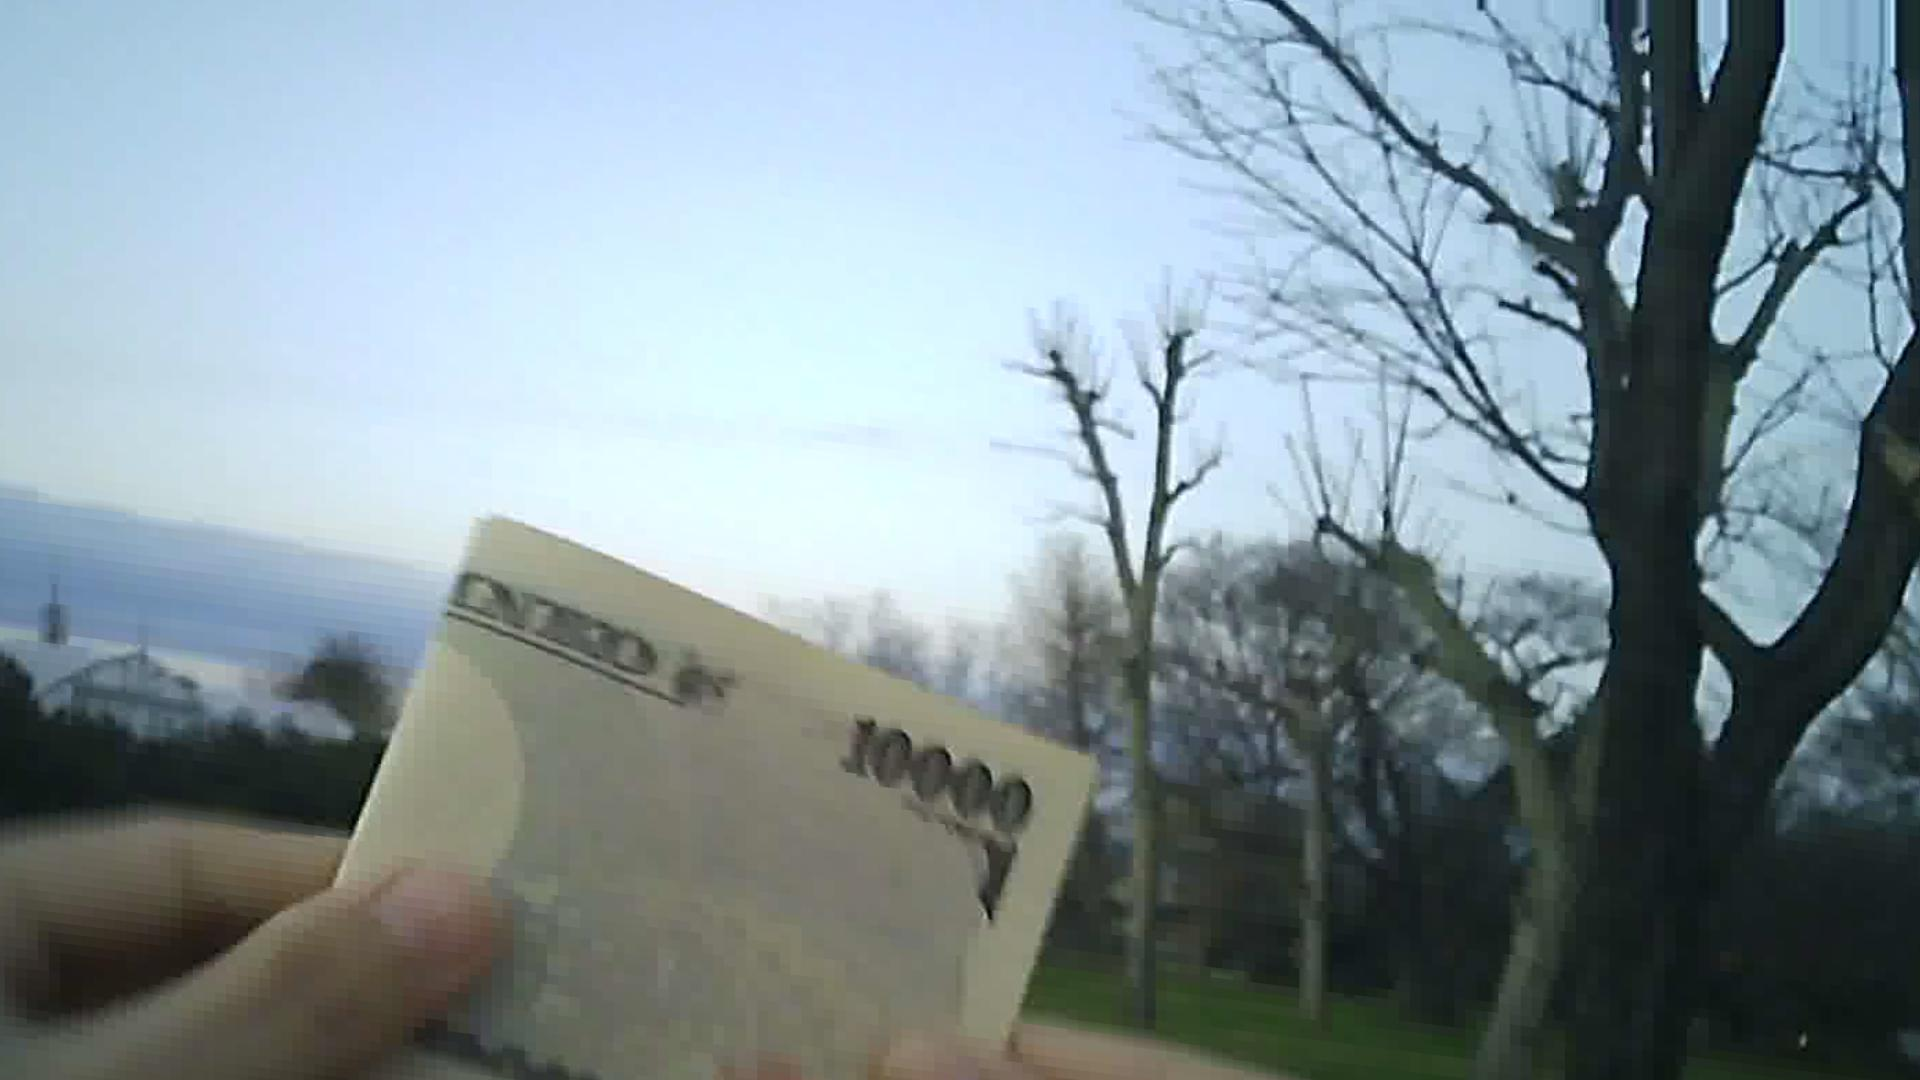10,000 Yen: (302, 521, 1072, 1079)
